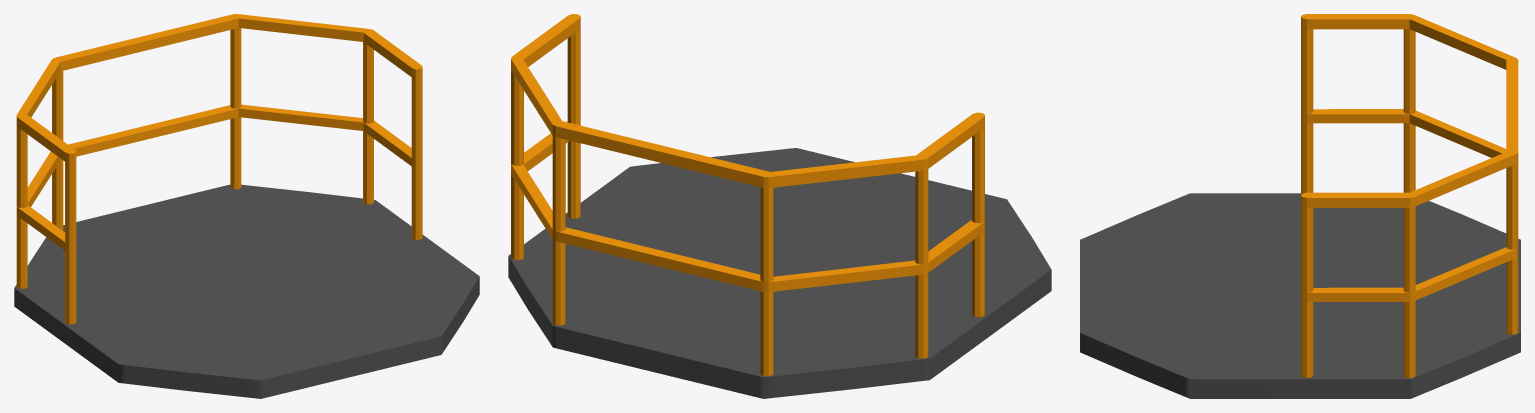
The model's file is elevator.fbx.
The picture shows the model from 3 angles, left to right: view 1: azimuth 30°, elevation 25°; view 2: azimuth 150°, elevation 25°; view 3: azimuth 270°, elevation 25°; orthographic projection. The views are drawn at different scales.
Visible parts, largest first — view 1: elevator_geo; view 2: elevator_geo; view 3: elevator_geo.
Boxes of the visible parts, bbox=[...] form: elevator_geo: bbox=[14, 14, 479, 398]; elevator_geo: bbox=[508, 14, 1051, 398]; elevator_geo: bbox=[1080, 14, 1520, 398].
Size of the model in its own units: 2 by 1 by 2.
